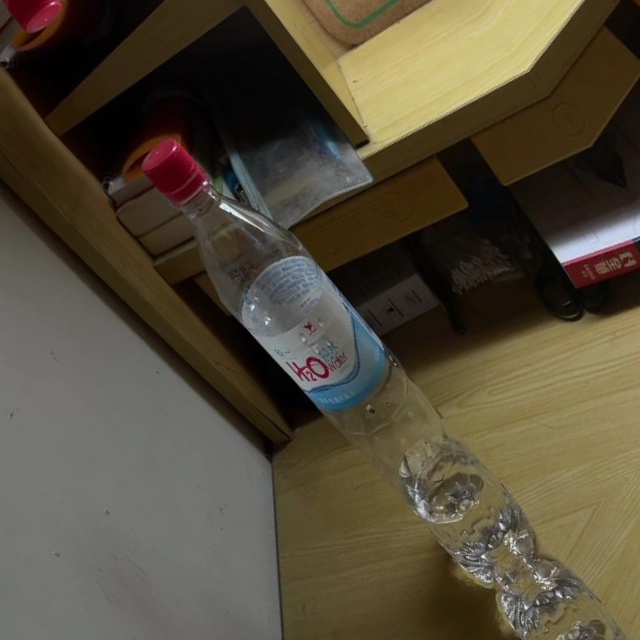Water: (113, 110, 553, 606)
